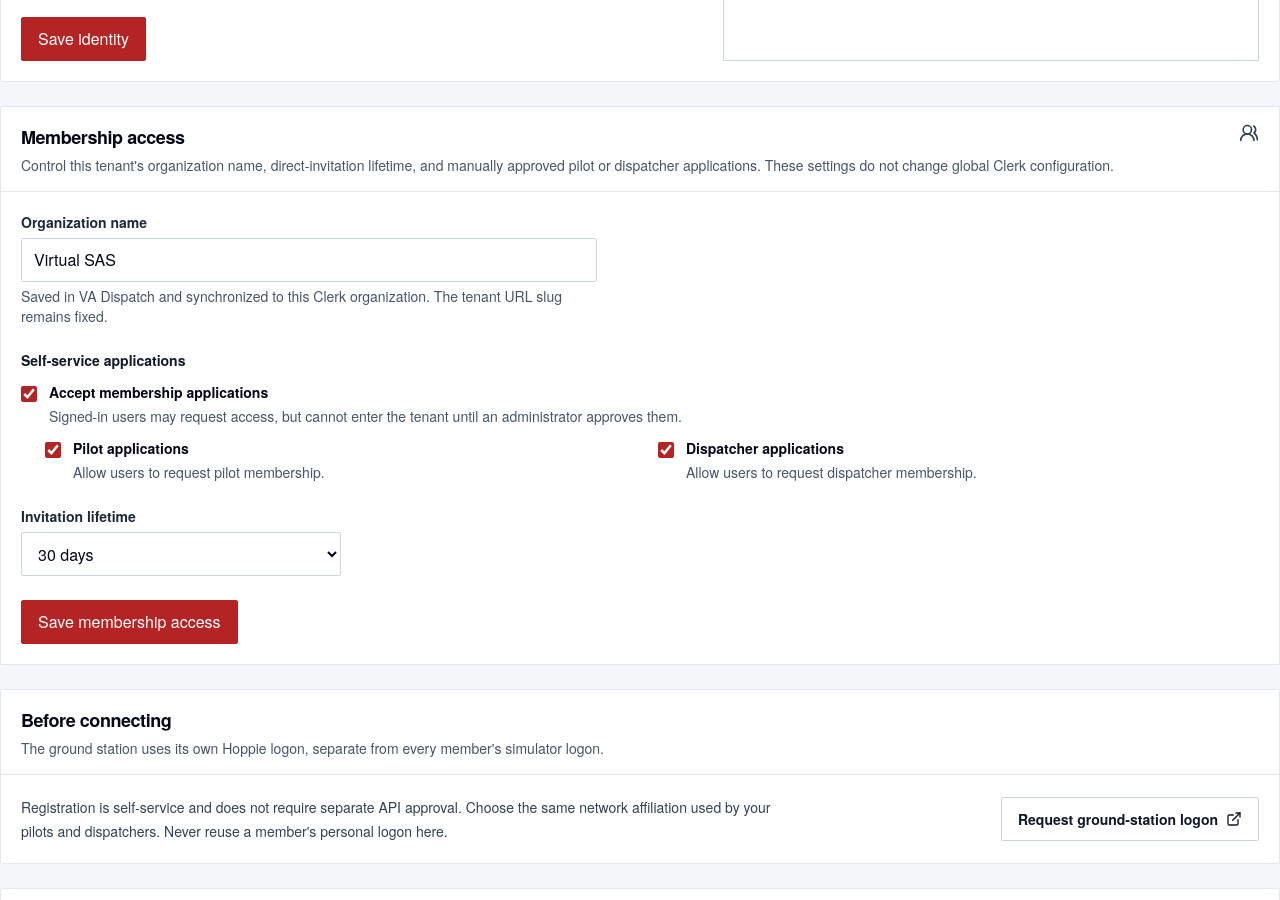
it: organization settings › configures manual applications and Clerk invitation lifetime
This screenshot has width=1280, height=900.
(page scrolled)
Click the checkbox labelled "Dispatcher applications" at (666, 450), box left=658, top=442, right=674, bottom=458
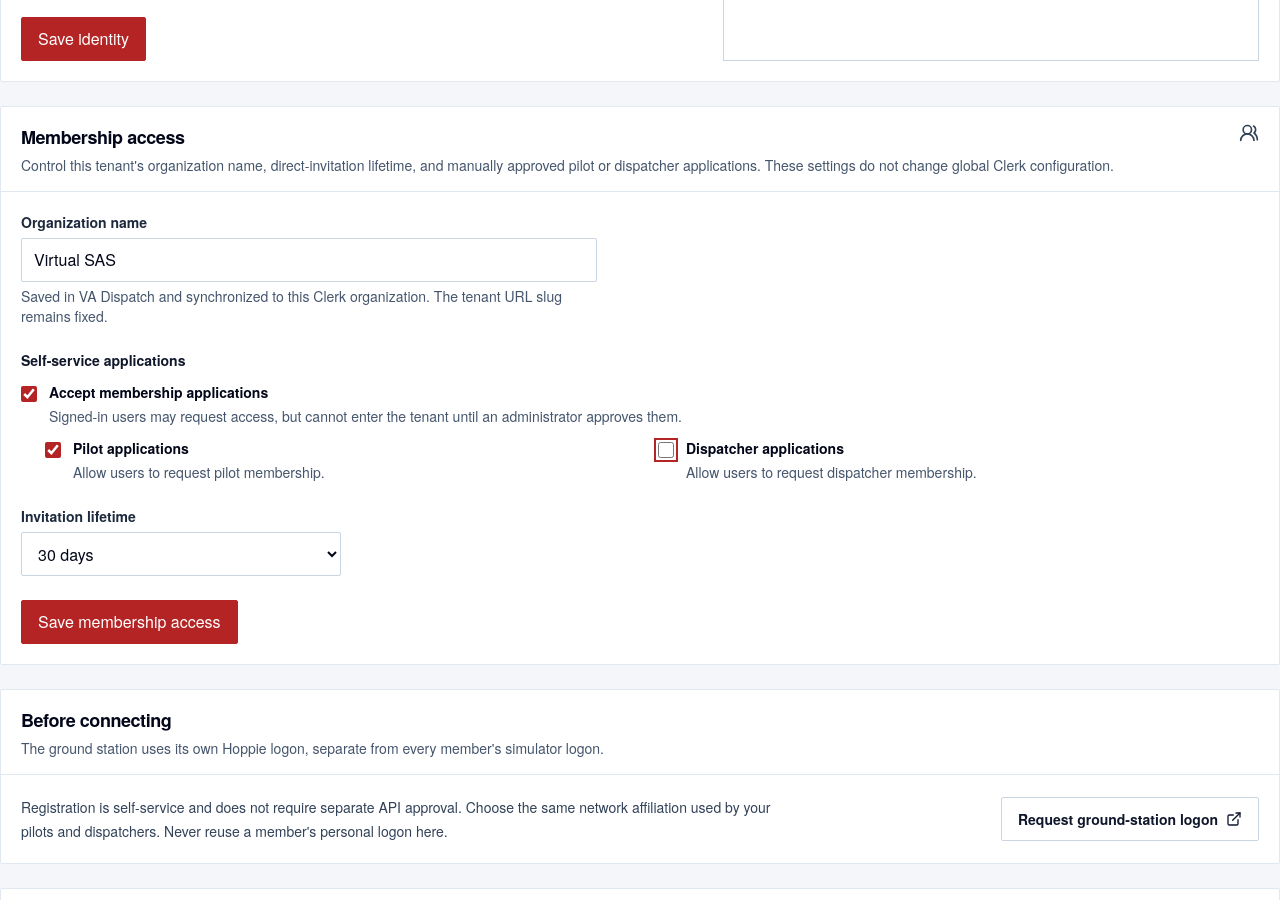
Select "14 days" in the dropdown labelled "Invitation lifetime" at (181, 554), box left=21, top=532, right=341, bottom=576
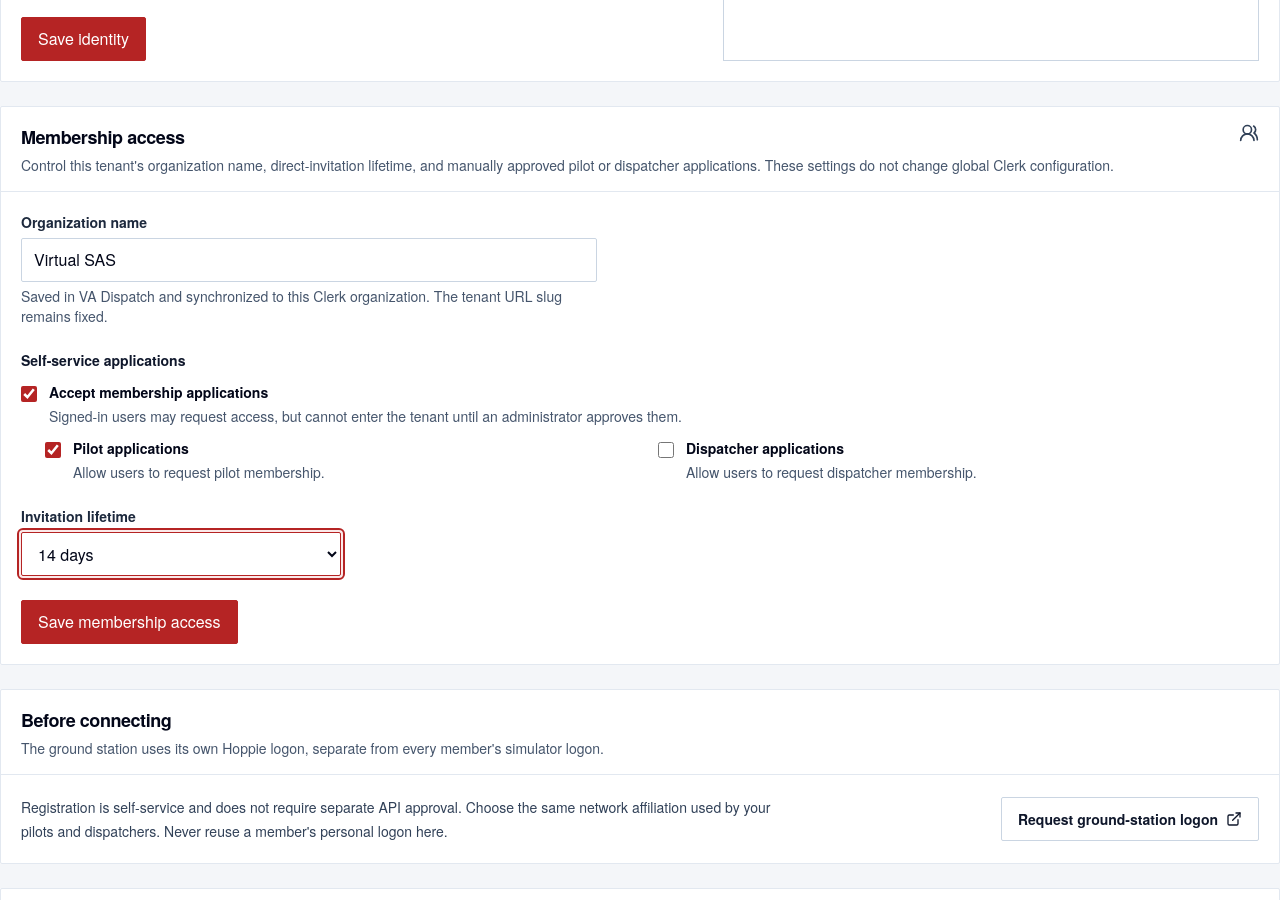
Click the button "Save membership access" at (129, 622), box left=21, top=600, right=238, bottom=644
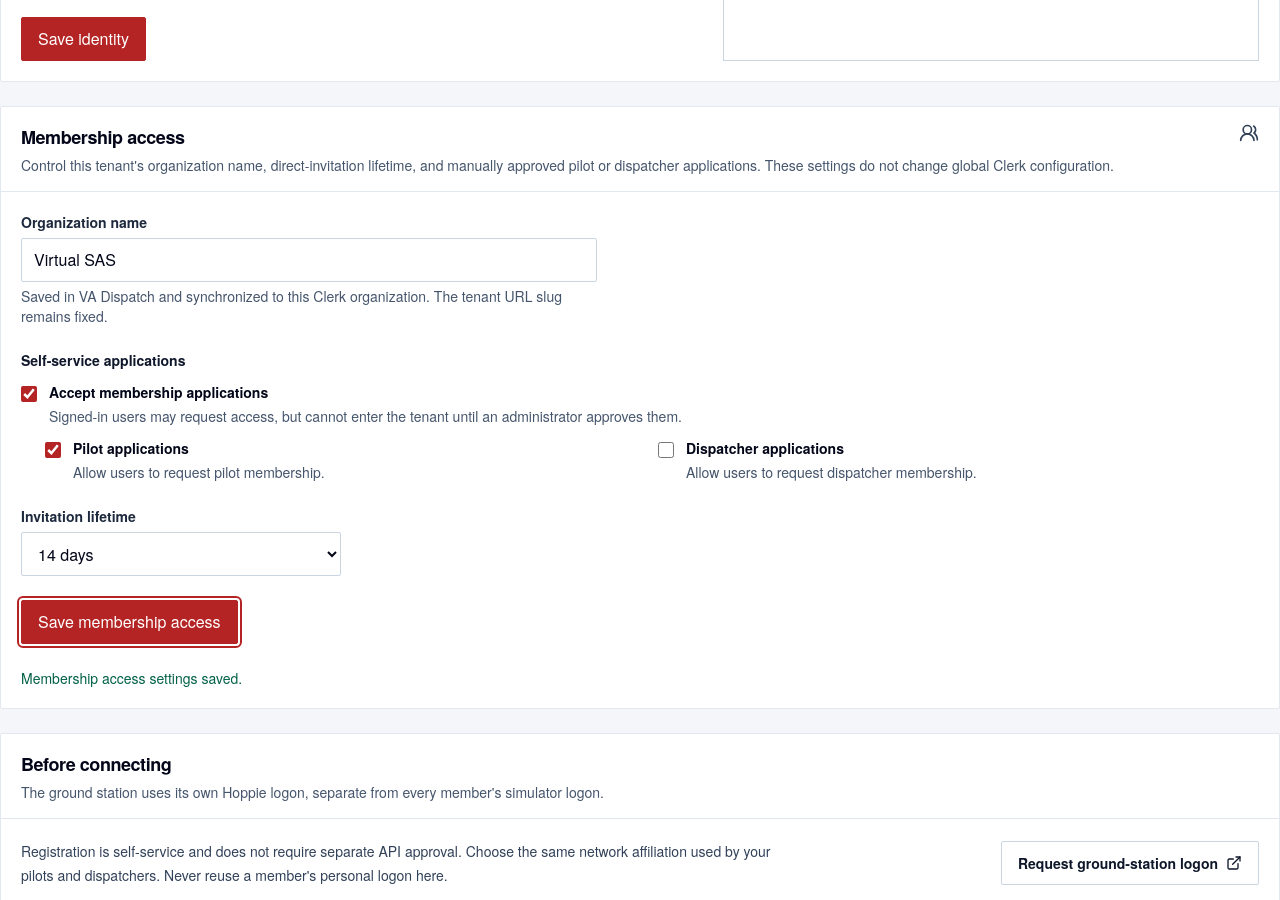
Now the text "Membership access settings saved." is shown, box left=21, top=668, right=242, bottom=688
